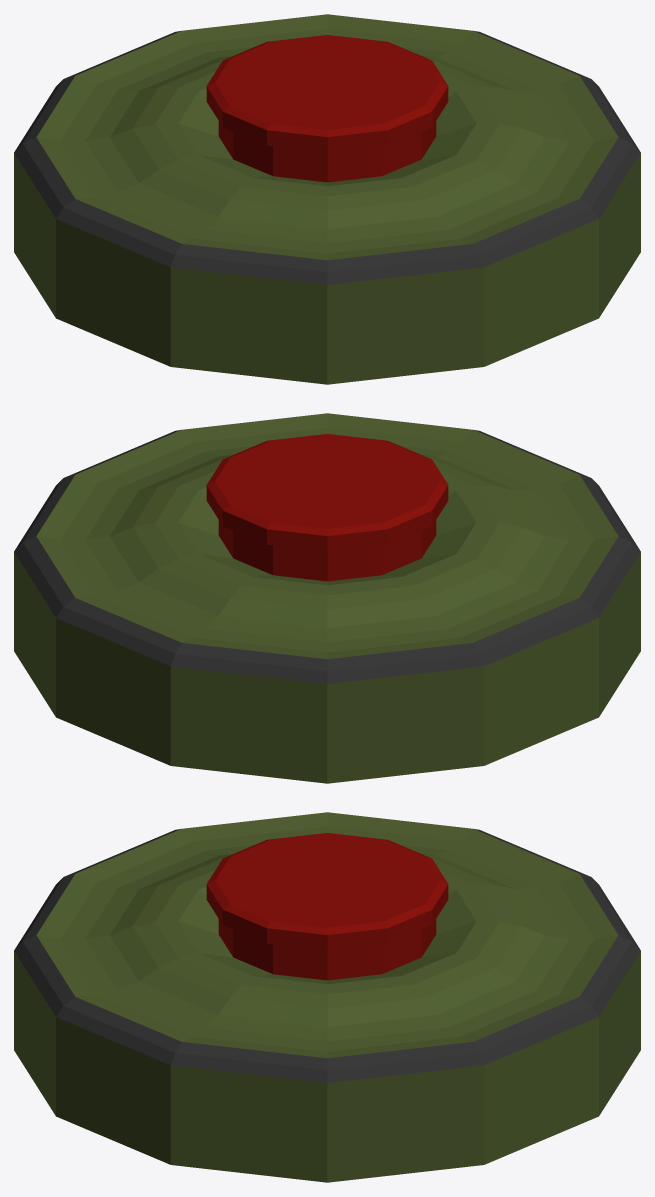
Rendered from mine.fbx.
3 views of the same model, one above another, from view 1: azimuth 30°, elevation 25°; view 2: azimuth 150°, elevation 25°; view 3: azimuth 270°, elevation 25° (orthographic).
Visible parts, largest first — view 1: Окружность; view 2: Окружность; view 3: Окружность.
Boxes of the visible parts, <box> form: Окружность: <box>14,14,640,384</box>; Окружность: <box>14,413,640,783</box>; Окружность: <box>14,812,640,1182</box>.
Bounding box in the file's own units: 200 × 59.74 × 200.
